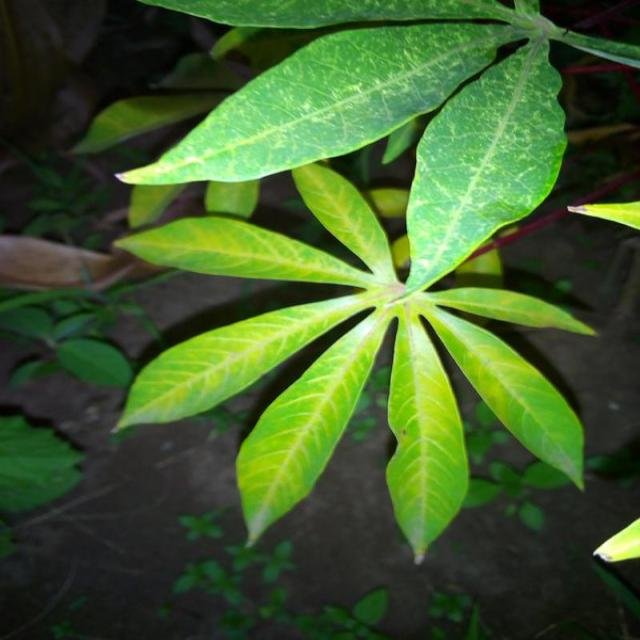cassava leaf: (106, 14, 596, 563), (112, 16, 528, 188), (403, 34, 567, 295), (384, 306, 470, 564)
